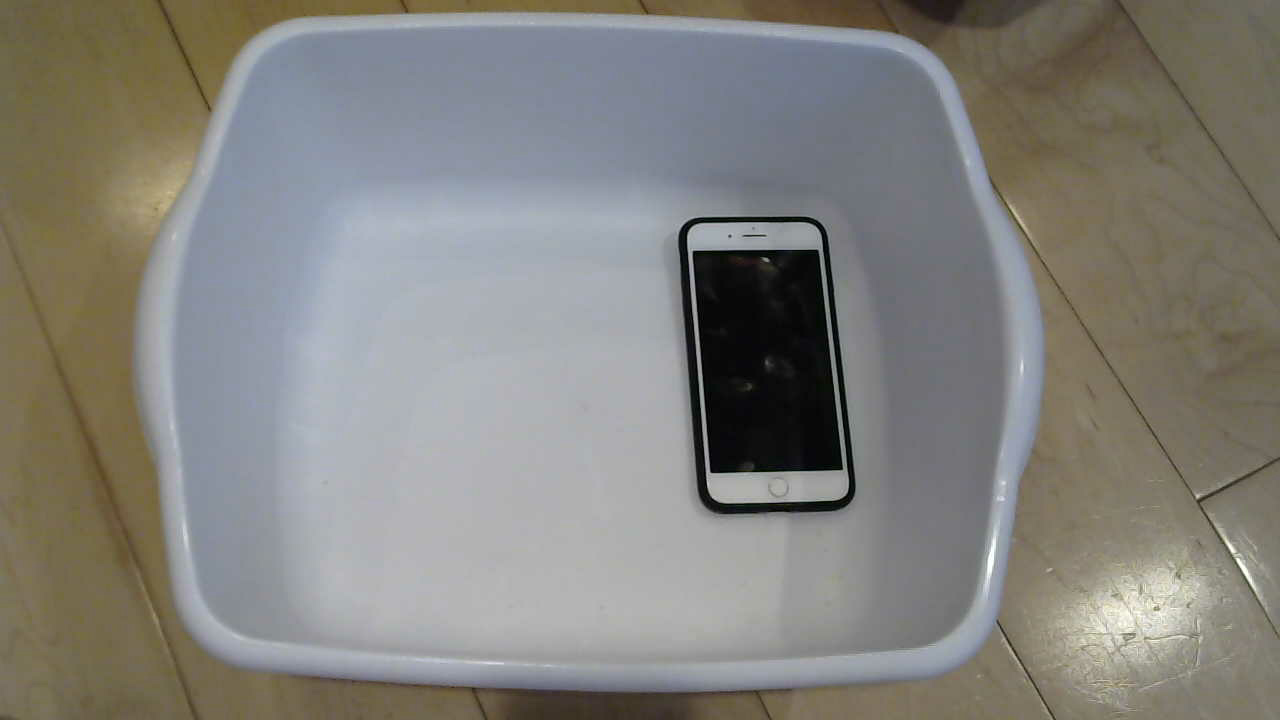phone: (657, 192, 864, 525)
